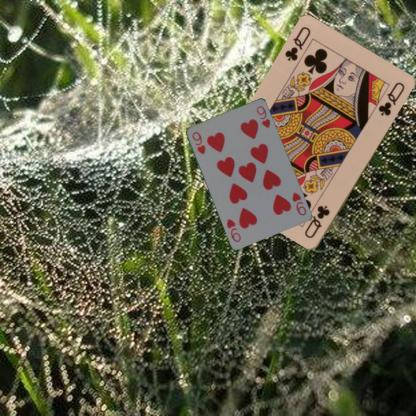9h: (189, 129, 207, 155), (289, 190, 307, 216)
Qc: (282, 24, 312, 63), (302, 203, 331, 240)
